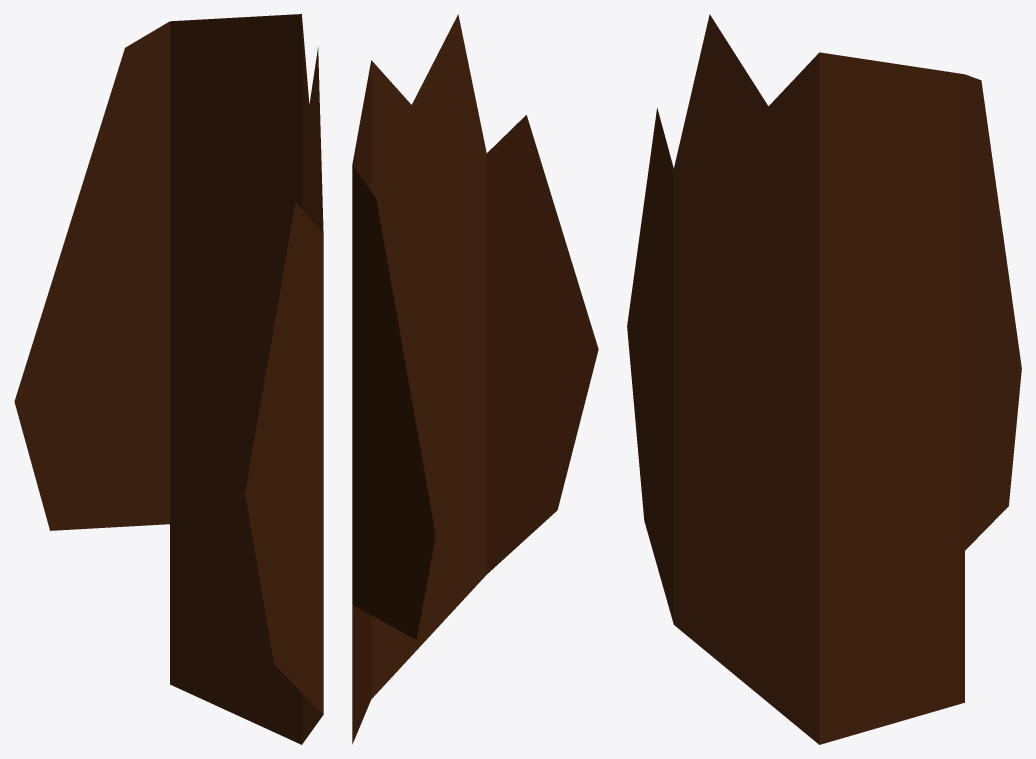
Rendered from Butelka_b.fbx.
The picture shows the model from 3 angles, left to right: view 1: azimuth 30°, elevation 25°; view 2: azimuth 150°, elevation 25°; view 3: azimuth 270°, elevation 25°; orthographic projection. The views are drawn at different scales.
Parts seen in each view (by area): view 1: Piwo_rozwalone2; view 2: Piwo_rozwalone2; view 3: Piwo_rozwalone2.
Part boxes in pixels (left/top/right/bottom): Piwo_rozwalone2: left=14, top=14, right=323, bottom=744; Piwo_rozwalone2: left=352, top=14, right=598, bottom=744; Piwo_rozwalone2: left=627, top=14, right=1021, bottom=744.
Bounding box in the file's own units: 9.39 × 37.33 × 18.77.
